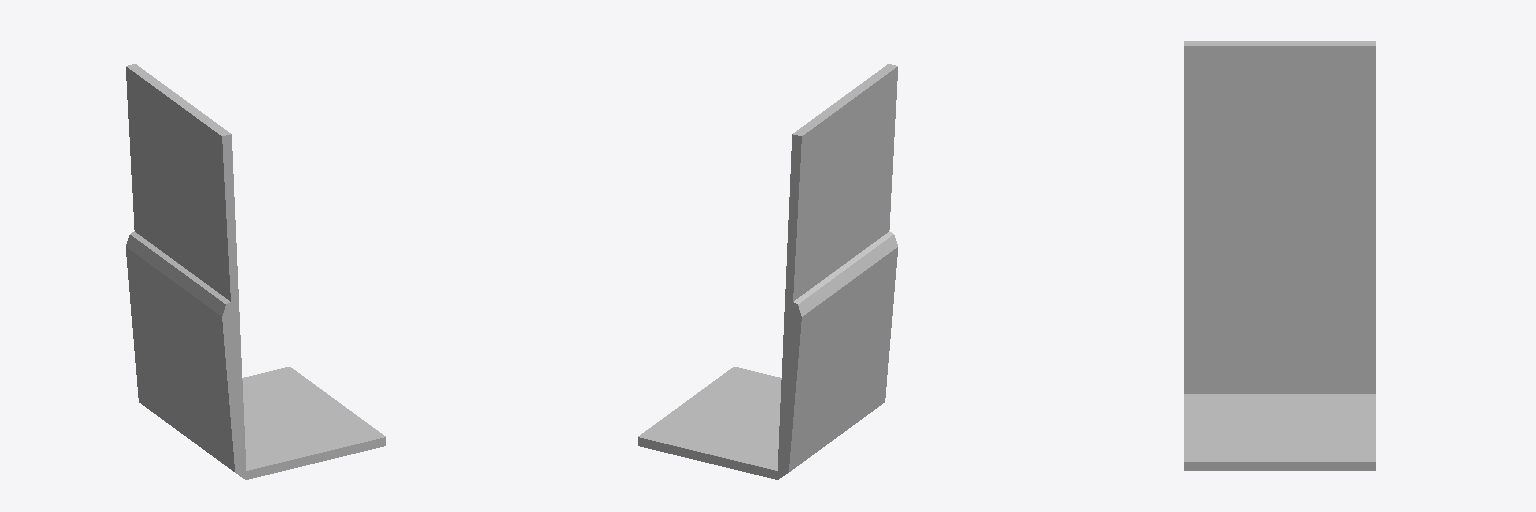
The model's file is base_building_left_edge_tile.obj.
The picture shows the model from 3 angles: view 1: azimuth 30°, elevation 25°; view 2: azimuth 150°, elevation 25°; view 3: azimuth 270°, elevation 25°; orthographic projection.
Visible parts, largest first — view 1: left_edge_Cube.004; view 2: left_edge_Cube.004; view 3: left_edge_Cube.004.
Part boxes in pixels (left/top/right/bottom): left_edge_Cube.004: left=126, top=64, right=385, bottom=479; left_edge_Cube.004: left=638, top=64, right=897, bottom=479; left_edge_Cube.004: left=1184, top=41, right=1375, bottom=470.
Bounding box in the file's own units: 1.97 × 4 × 2.